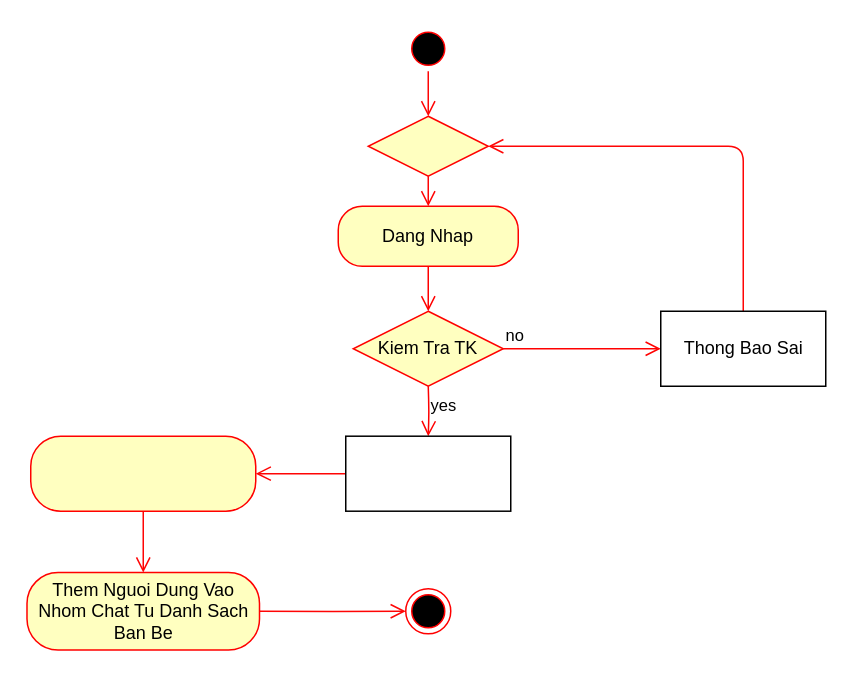
Image size: 852x677. Some labels were removed from this diagram. Here are the shapes that lost their labels. From the top down, the centre of each, then its label:
At (142,473): "Chom Tao Nhom Chat".
At (427,473): "Hien Thi Trang Chu".
